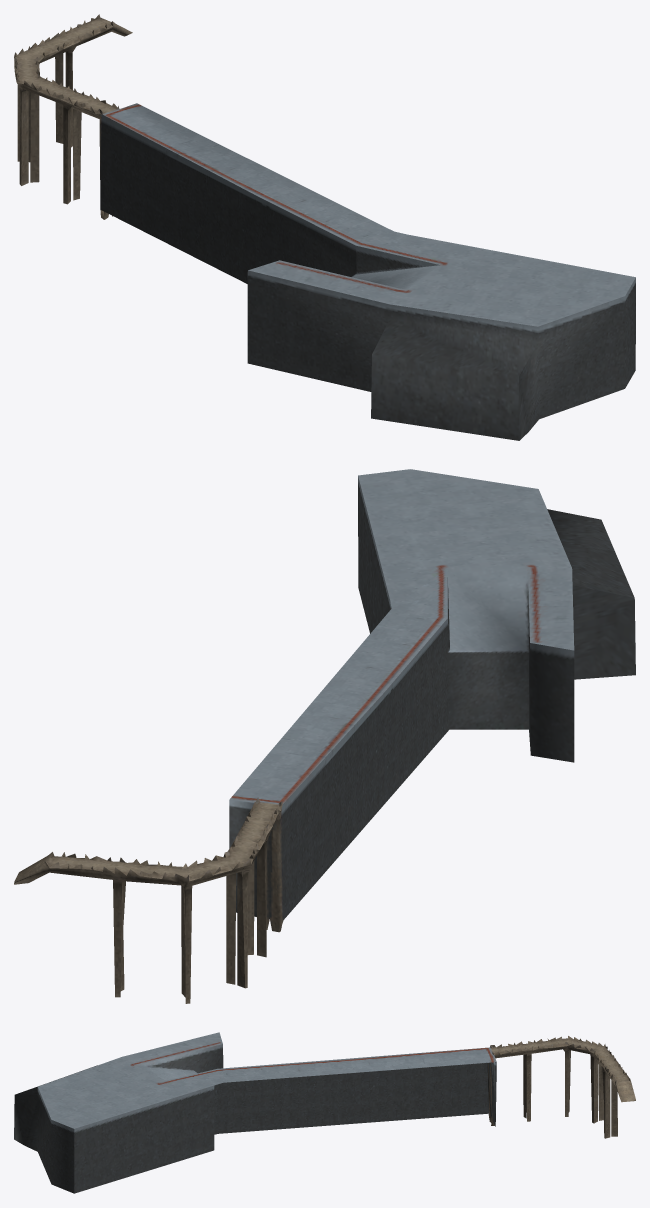
File: clod_town_t05_clod_far000.gltf
The picture shows the model from 3 angles, top to bottom: view 1: azimuth 30°, elevation 25°; view 2: azimuth 150°, elevation 25°; view 3: azimuth 270°, elevation 25°; orthographic projection. The views are drawn at different scales.
Parts seen in each view (by area): view 1: clod_town_t05_clod_far000_000_meshShape:remesh_mat; view 2: clod_town_t05_clod_far000_000_meshShape:remesh_mat; view 3: clod_town_t05_clod_far000_000_meshShape:remesh_mat.
Part boxes in pixels (box(x1,y1,x2,y2)): clod_town_t05_clod_far000_000_meshShape:remesh_mat: box(14, 14, 635, 440); clod_town_t05_clod_far000_000_meshShape:remesh_mat: box(14, 469, 635, 1003); clod_town_t05_clod_far000_000_meshShape:remesh_mat: box(14, 1032, 635, 1193).
Size of the model in its own units: 101 by 37.08 by 274.
Materials: 1 (1 with a texture image).
